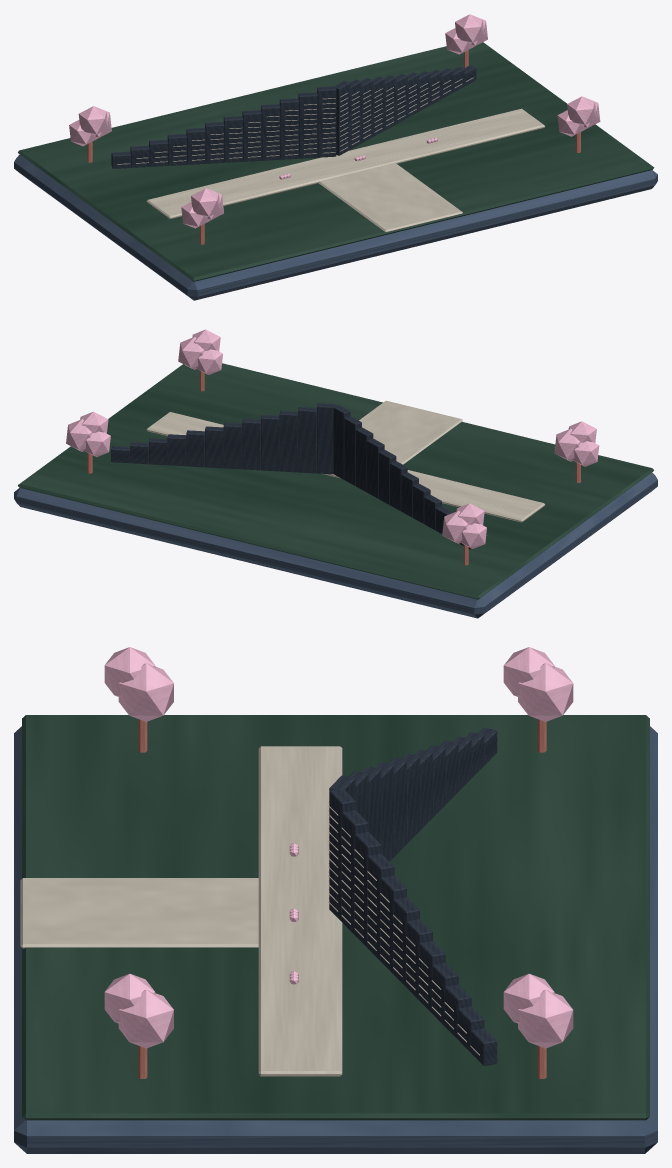
Rendered from vietnam-veterans-memorial-diorama.glb.
3 renders of one model, top to bottom at view 1: azimuth 30°, elevation 25°; view 2: azimuth 150°, elevation 25°; view 3: azimuth 270°, elevation 25°, orthographic. The views are drawn at different scales.
Parts seen in each view (by area): view 1: vietnam-veterans-memorial; view 2: vietnam-veterans-memorial; view 3: vietnam-veterans-memorial.
Boxes of the visible parts, bbox=[...] form: vietnam-veterans-memorial: bbox=[14, 14, 657, 300]; vietnam-veterans-memorial: bbox=[14, 329, 657, 618]; vietnam-veterans-memorial: bbox=[14, 647, 657, 1153].
Size of the model in its own units: 15 by 2.85 by 10.
1 material, 1 textured.
